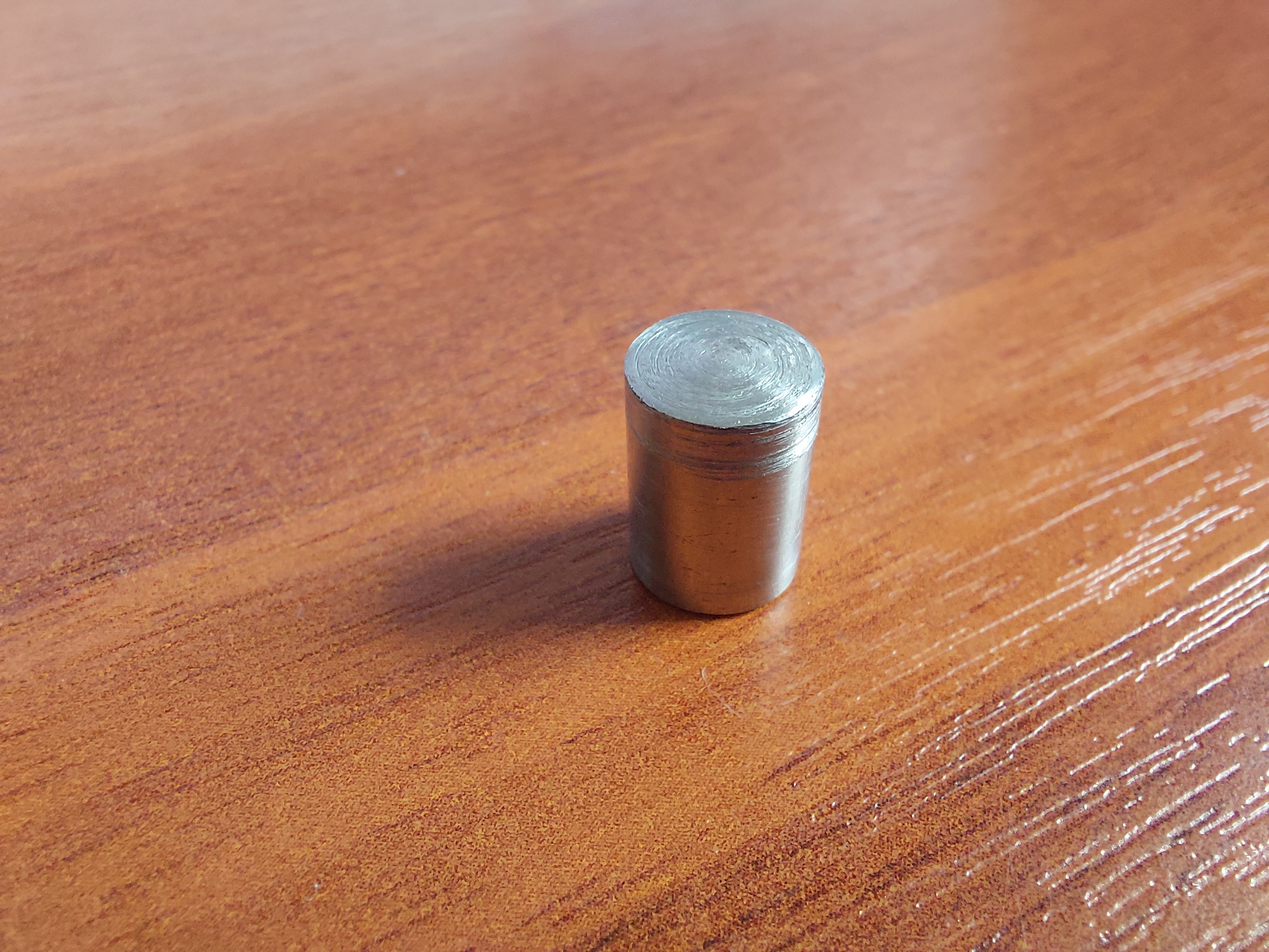tablet: (623, 302, 824, 618)
